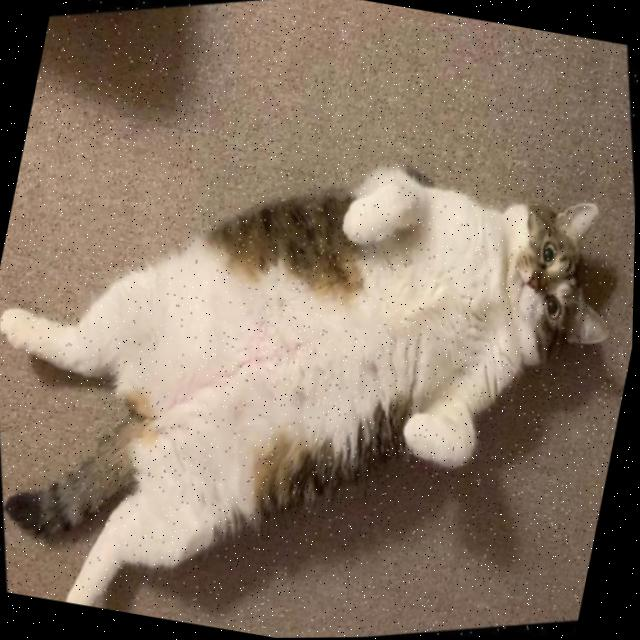Cats: (0, 15, 640, 640)
